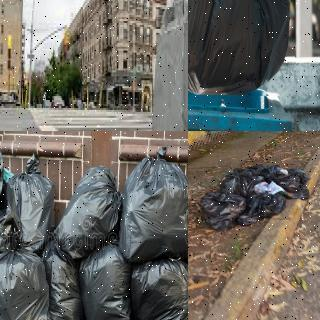Garbage: (188, 0, 295, 98), (119, 140, 188, 268), (53, 161, 125, 260), (3, 151, 60, 249), (0, 236, 54, 320), (78, 239, 134, 320), (128, 251, 188, 320), (40, 239, 89, 320), (0, 142, 22, 252), (199, 191, 246, 230), (244, 194, 286, 224), (221, 172, 265, 196)
